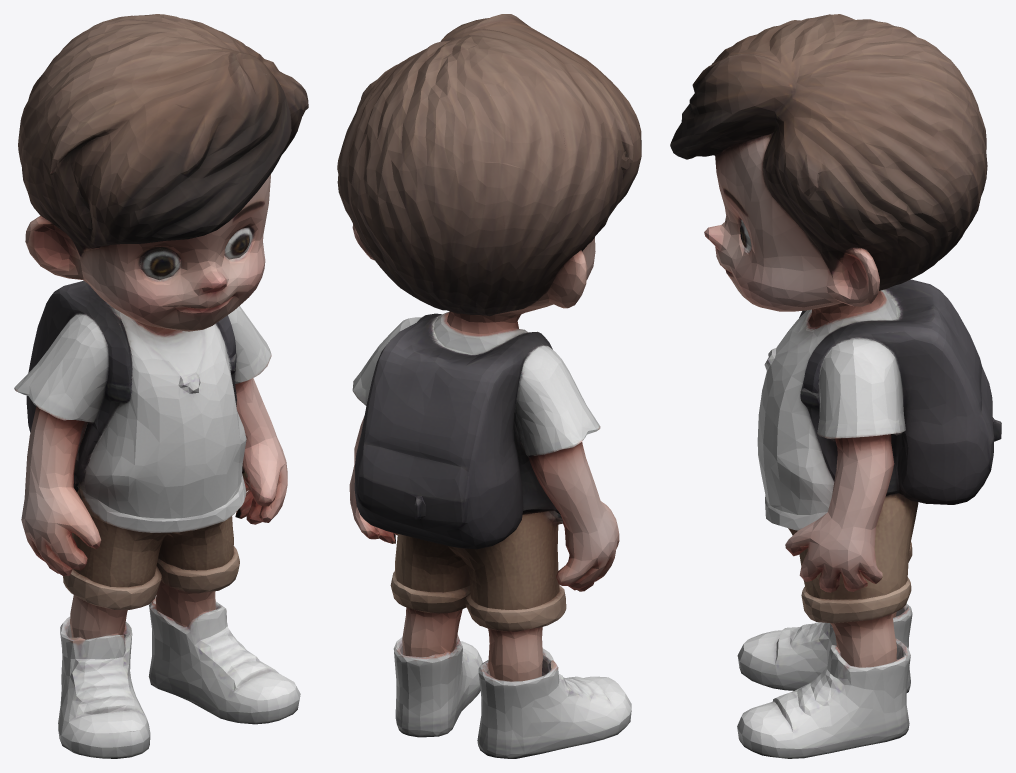
The picture shows the model from 3 angles, left to right: view 1: azimuth 30°, elevation 25°; view 2: azimuth 150°, elevation 25°; view 3: azimuth 270°, elevation 25°; orthographic projection.
Parts seen in each view (by area): view 1: world; view 2: world; view 3: world.
Boxes of the visible parts, <box> form: world: <box>14,14,308,758</box>; world: <box>337,14,641,758</box>; world: <box>670,14,1001,758</box>.
Bounding box in the file's own units: 0.4102 × 0.9994 × 0.4424.
Materials: 1 (1 with a texture image).
